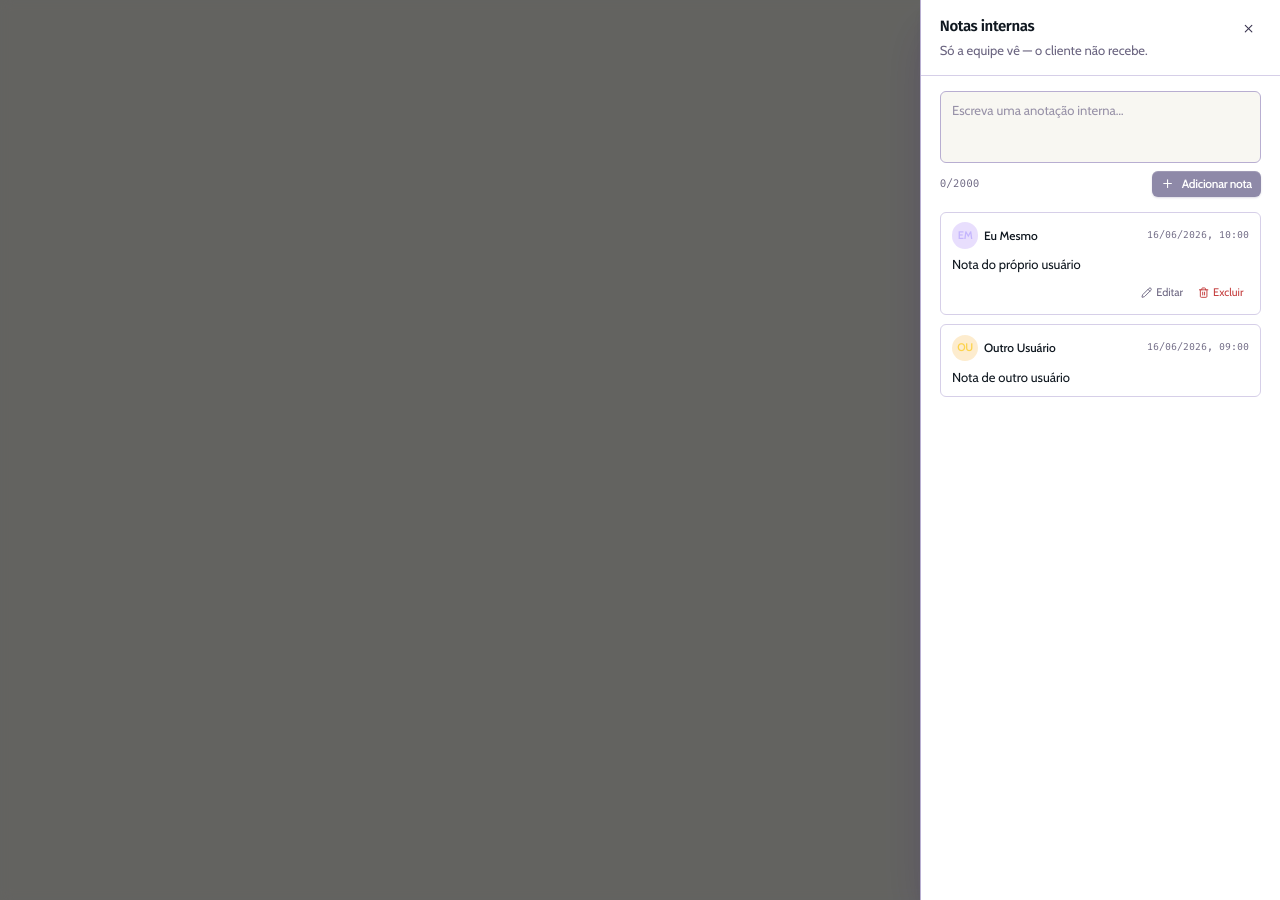
Test: NotasInternasDrawer › clicar em Editar abre o textarea de edição preenchido com o texto da nota
Click the button with test id "inbox-nota-editar-nota-1" at (1162, 292), box 1136,280 -> 1189,304
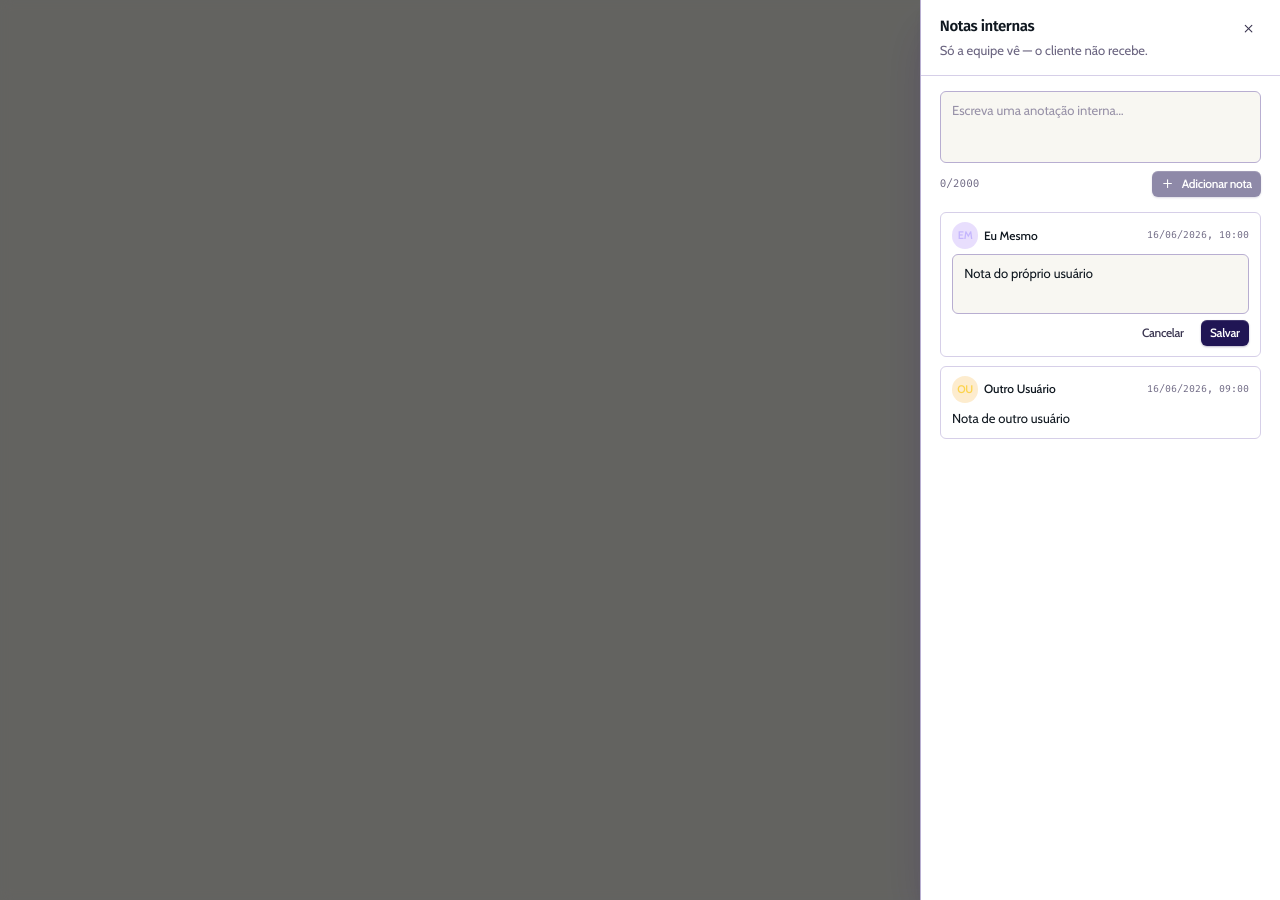
Expected: the text box with test id "inbox-nota-edit-input-nota-1" holds "Nota do próprio usuário", 952,254 -> 1249,314
